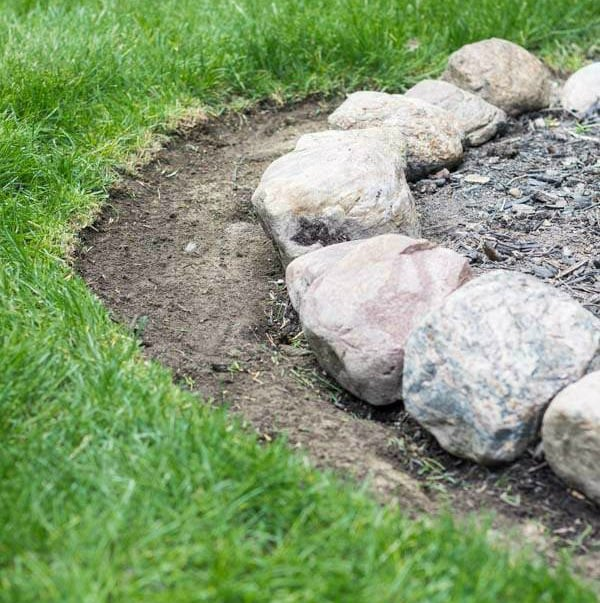dirt: (79, 105, 350, 452), (329, 414, 599, 569), (413, 111, 597, 306)
grass: (108, 367, 585, 602), (108, 3, 595, 148), (0, 3, 106, 601)
rock: (255, 38, 599, 496)
